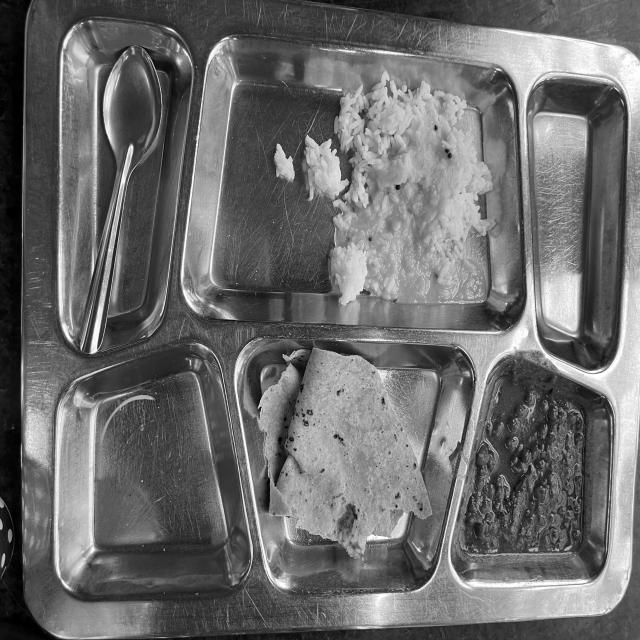50-Food-Left: (37, 7, 613, 605)
